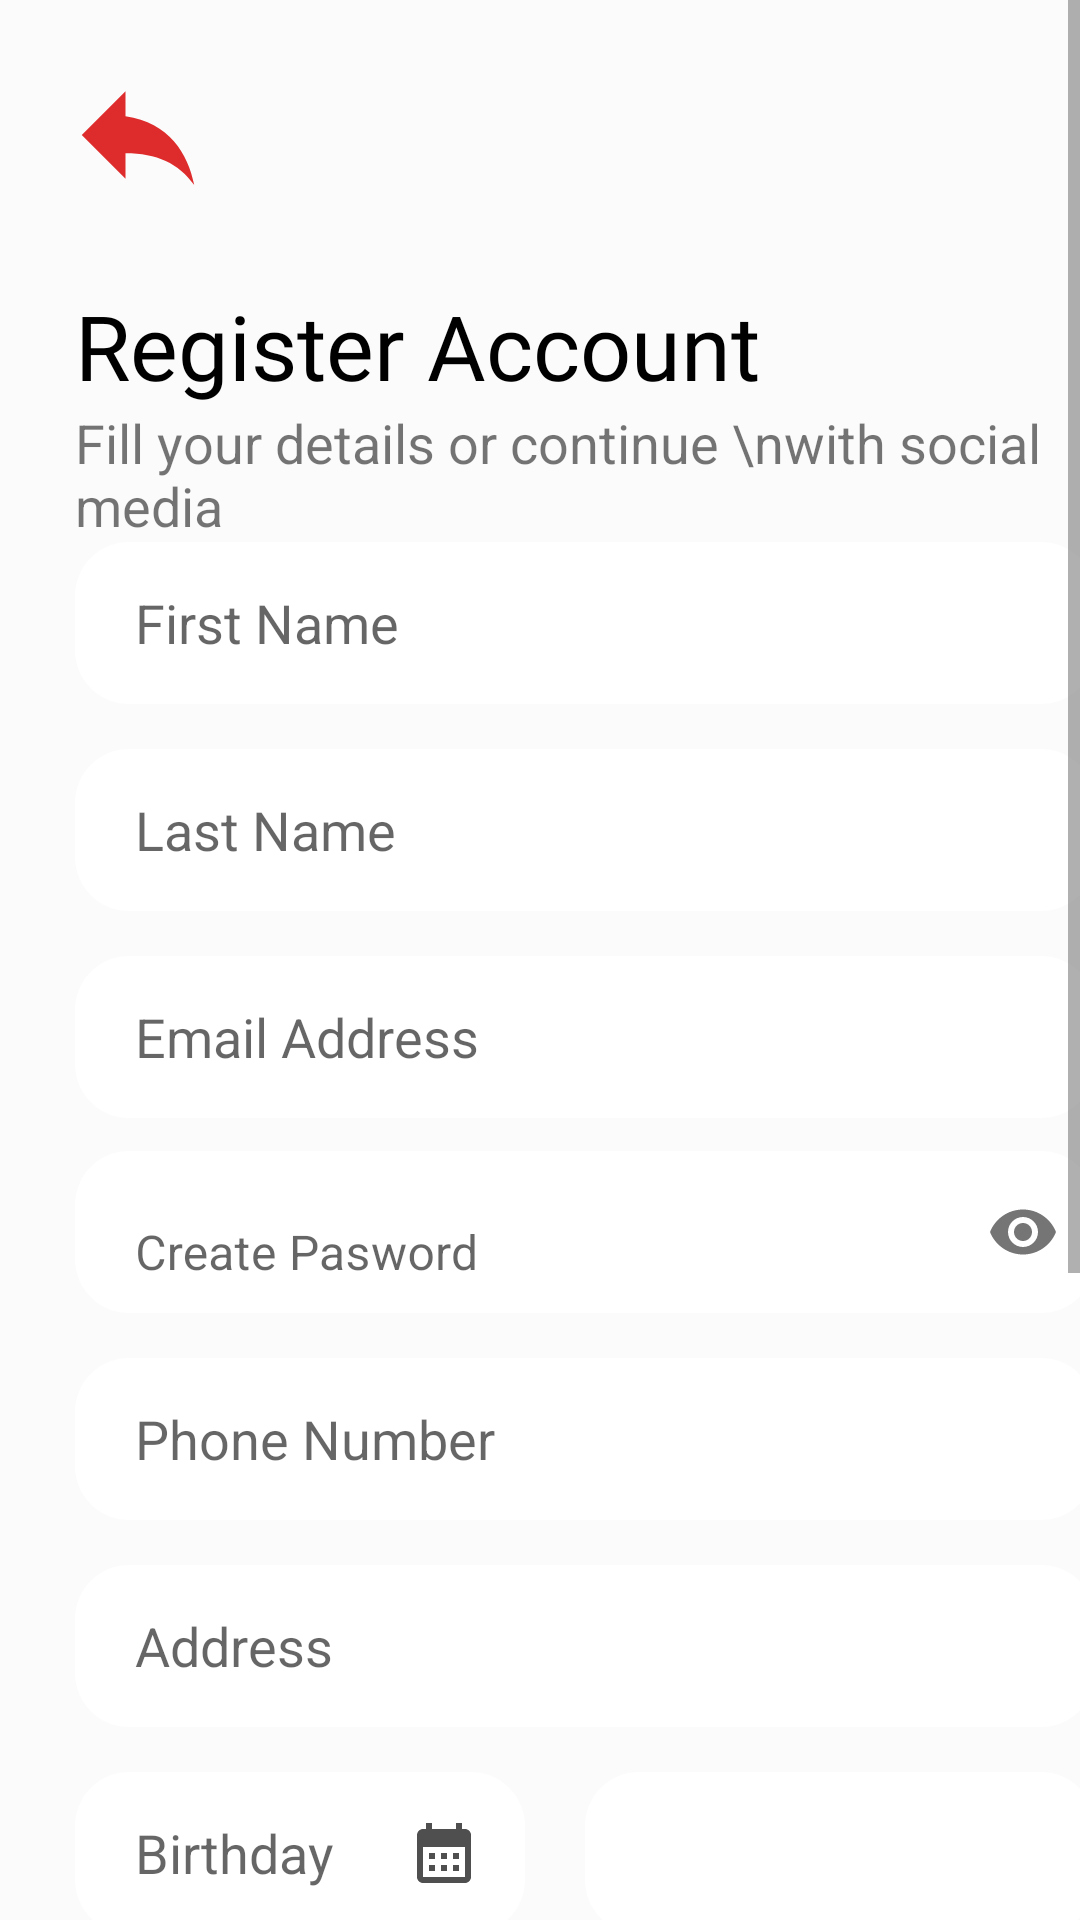

Icons on this 1080 × 1920 Android screen, each with its box as bbox(x1, y1, x2, y2):
back: bbox(82, 91, 194, 185)
